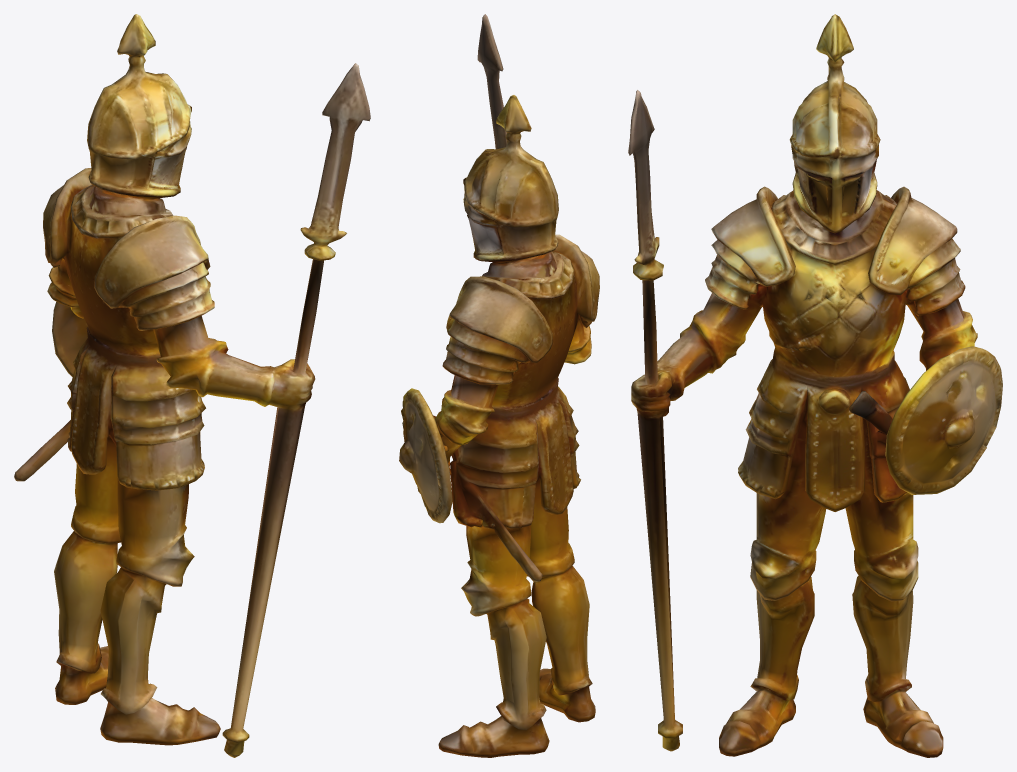
3 views of the same model, side by side, from view 1: azimuth 30°, elevation 25°; view 2: azimuth 150°, elevation 25°; view 3: azimuth 270°, elevation 25° (orthographic). The views are drawn at different scales.
Visible parts, largest first — view 1: tripo_node_23d041f4-07ab-4f61-997b-b23fadbbc36a; view 2: tripo_node_23d041f4-07ab-4f61-997b-b23fadbbc36a; view 3: tripo_node_23d041f4-07ab-4f61-997b-b23fadbbc36a.
Part boxes in pixels (x1=…): tripo_node_23d041f4-07ab-4f61-997b-b23fadbbc36a: x1=14, y1=14, x2=370, y2=757; tripo_node_23d041f4-07ab-4f61-997b-b23fadbbc36a: x1=399, y1=14, x2=599, y2=757; tripo_node_23d041f4-07ab-4f61-997b-b23fadbbc36a: x1=628, y1=14, x2=1002, y2=757.
Bounding box in the file's own units: 0.3223 × 0.998 × 0.4668.
1 material, 1 textured.
